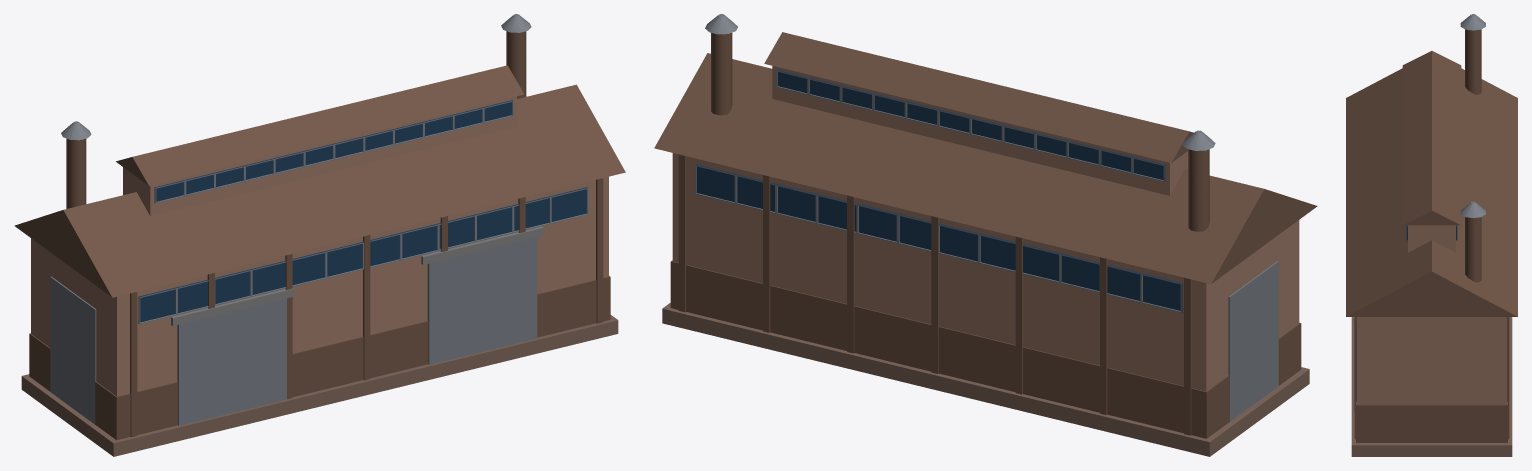
The model's file is mashup-shed-mid-prebuilt_close.fbx.
The picture shows the model from 3 angles, left to right: view 1: azimuth 30°, elevation 25°; view 2: azimuth 150°, elevation 25°; view 3: azimuth 270°, elevation 25°; orthographic projection. The views are drawn at different scales.
Visible parts, largest first — view 1: a1023.Shed.001; view 2: a1023.Shed.001; view 3: a1023.Shed.001.
Part boxes in pixels (x1,y1,x2,y2): a1023.Shed.001: (14, 14, 625, 456); a1023.Shed.001: (654, 14, 1317, 456); a1023.Shed.001: (1346, 14, 1517, 456).
Bounding box in the file's own units: 23.8 × 12.2 × 7.9.
